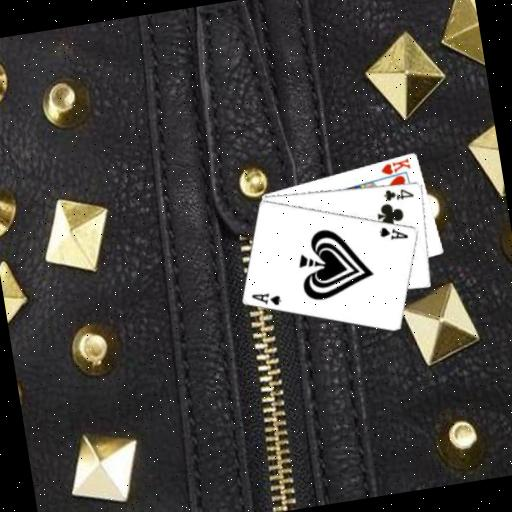4C: (380, 182, 416, 203)
AS: (247, 286, 283, 310), (375, 220, 410, 244)
KH: (377, 154, 413, 177)
